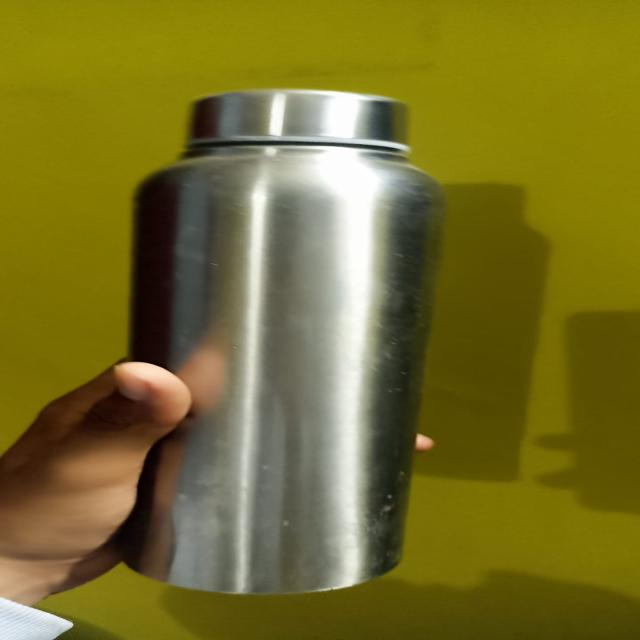bottle: (120, 83, 446, 602)
